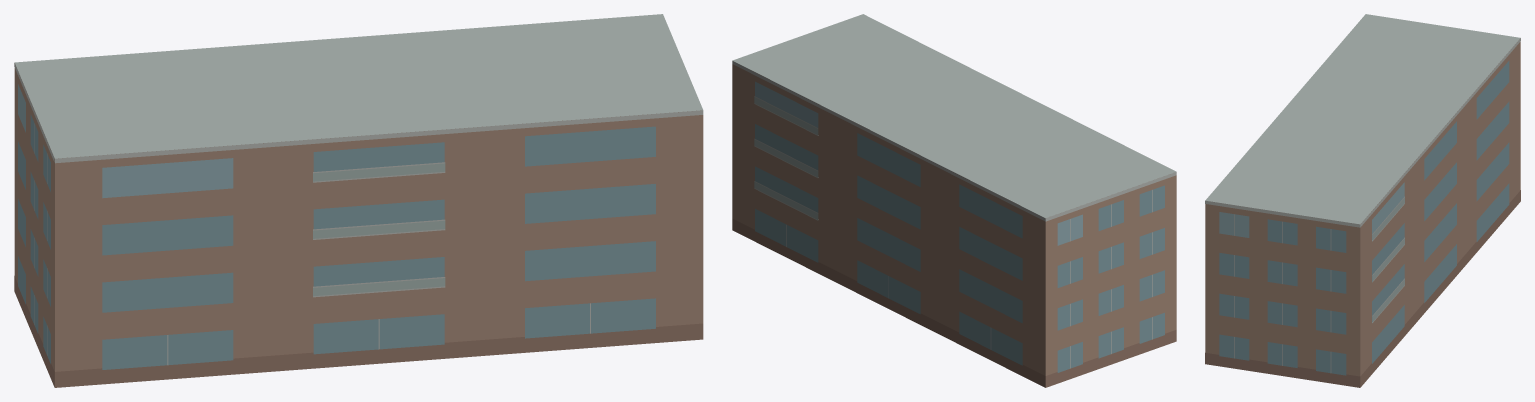
The model's file is residential-6a3748de-7190-4af2-aa28-d4cd55a12be4.glb.
3 views of the same model, side by side, from view 1: azimuth 30°, elevation 25°; view 2: azimuth 150°, elevation 25°; view 3: azimuth 270°, elevation 25° (orthographic). The views are drawn at different scales.
Parts seen in each view (by area): view 1: residential-6a3748de-7190-4af2-aa28-d4cd55a12be4.tmp; view 2: residential-6a3748de-7190-4af2-aa28-d4cd55a12be4.tmp; view 3: residential-6a3748de-7190-4af2-aa28-d4cd55a12be4.tmp.
Boxes of the visible parts, left/top/right/bottom form: residential-6a3748de-7190-4af2-aa28-d4cd55a12be4.tmp: left=14, top=14, right=703, bottom=387; residential-6a3748de-7190-4af2-aa28-d4cd55a12be4.tmp: left=732, top=14, right=1176, bottom=387; residential-6a3748de-7190-4af2-aa28-d4cd55a12be4.tmp: left=1205, top=14, right=1520, bottom=387.
Size of the model in its own units: 33.67 by 12.2 by 21.35.
